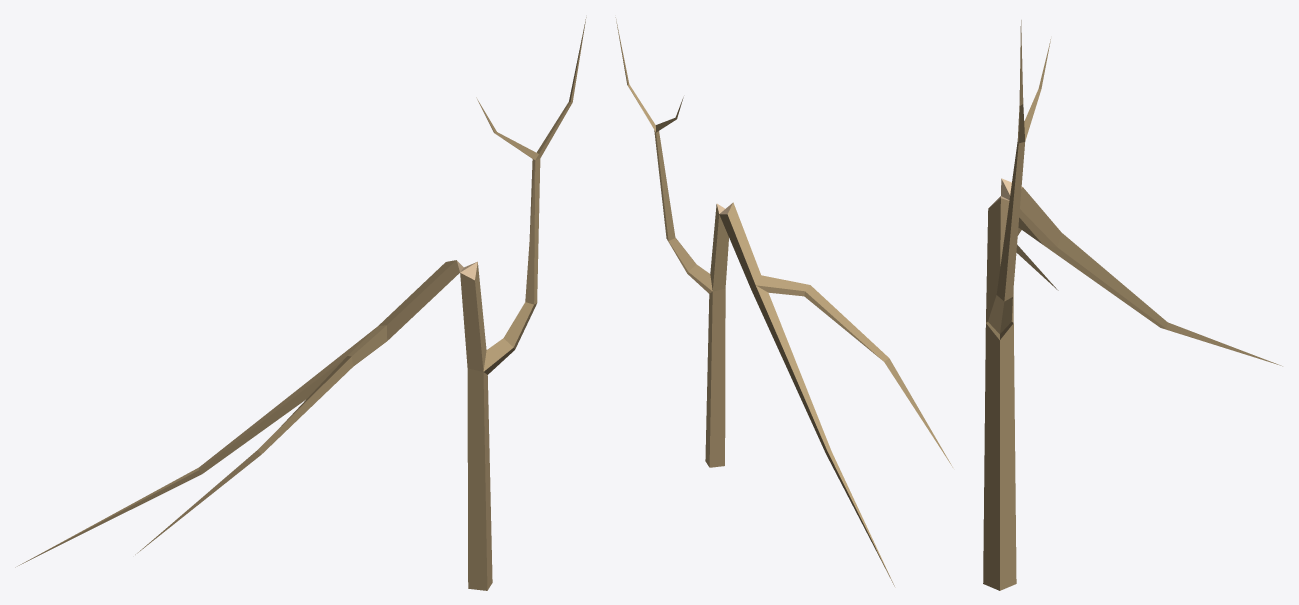
The model's file is Random_Tree_NoLeaves_crk_s_01_LOD.fbx.
3 views of the same model, side by side, from view 1: azimuth 30°, elevation 25°; view 2: azimuth 150°, elevation 25°; view 3: azimuth 270°, elevation 25° (orthographic). The views are drawn at different scales.
Parts seen in each view (by area): view 1: Random_Tree_NoLeaves_crk_s_01_LOD0; view 2: Random_Tree_NoLeaves_crk_s_01_LOD0; view 3: Random_Tree_NoLeaves_crk_s_01_LOD0.
Part boxes in pixels (box(x1,y1,x2,y2)): Random_Tree_NoLeaves_crk_s_01_LOD0: box(15, 17, 586, 590); Random_Tree_NoLeaves_crk_s_01_LOD0: box(615, 17, 952, 587); Random_Tree_NoLeaves_crk_s_01_LOD0: box(983, 20, 1282, 590).
Size of what is drawn, in the model's own units: 212 by 235 by 101.
